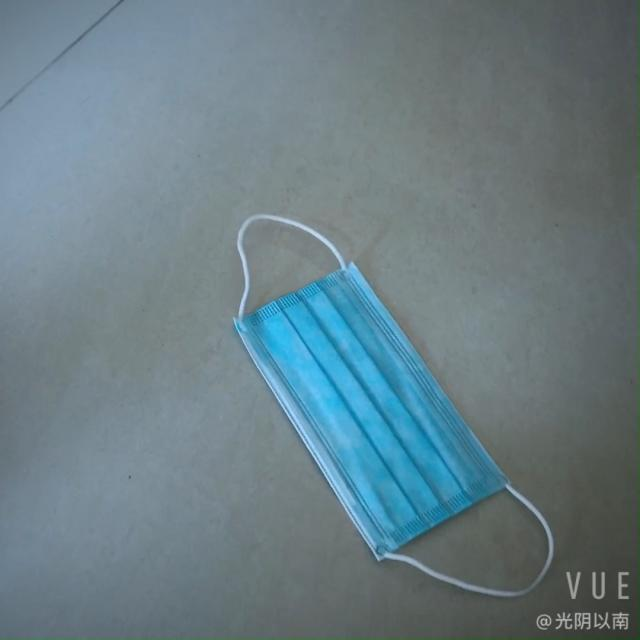face mask: (220, 252, 517, 568)
